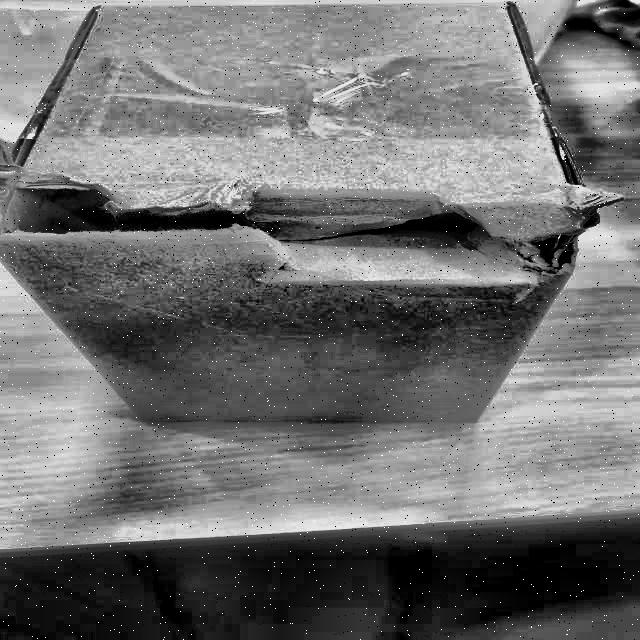box: (0, 0, 591, 435)
hole: (1, 181, 597, 275)
